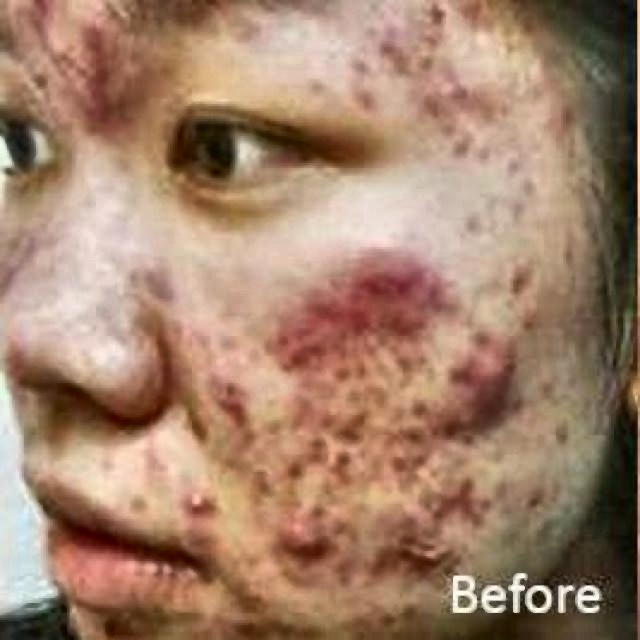nodule: (427, 385, 472, 440), (278, 504, 321, 556), (350, 267, 405, 306), (465, 356, 511, 398), (403, 267, 448, 309), (180, 484, 218, 532), (290, 292, 340, 328), (261, 324, 307, 361), (511, 292, 551, 331), (535, 84, 568, 131), (264, 452, 312, 484), (400, 541, 451, 571), (79, 84, 115, 126), (84, 0, 120, 42), (396, 334, 432, 376), (67, 52, 118, 81), (487, 321, 522, 361), (504, 482, 546, 514), (431, 470, 465, 509), (549, 222, 578, 267), (228, 418, 259, 460), (544, 410, 578, 447), (285, 386, 319, 422), (238, 581, 274, 615), (410, 64, 436, 109), (461, 314, 492, 351), (350, 549, 383, 583), (434, 72, 465, 108), (220, 378, 250, 415), (316, 442, 350, 474), (182, 405, 209, 445), (527, 361, 556, 398), (396, 309, 429, 341), (331, 406, 364, 438), (331, 366, 367, 395), (290, 432, 321, 464), (259, 406, 290, 438), (393, 418, 427, 447), (417, 0, 456, 25), (438, 356, 468, 388), (403, 388, 434, 418), (343, 302, 374, 331), (388, 452, 427, 474), (506, 255, 534, 284), (376, 600, 401, 632), (566, 106, 590, 138), (434, 104, 458, 136), (412, 25, 446, 47), (237, 539, 264, 566), (396, 596, 424, 622), (396, 504, 420, 534), (367, 32, 398, 54), (453, 0, 484, 22), (460, 507, 487, 531), (220, 571, 247, 595), (468, 487, 497, 509), (223, 539, 242, 568)
